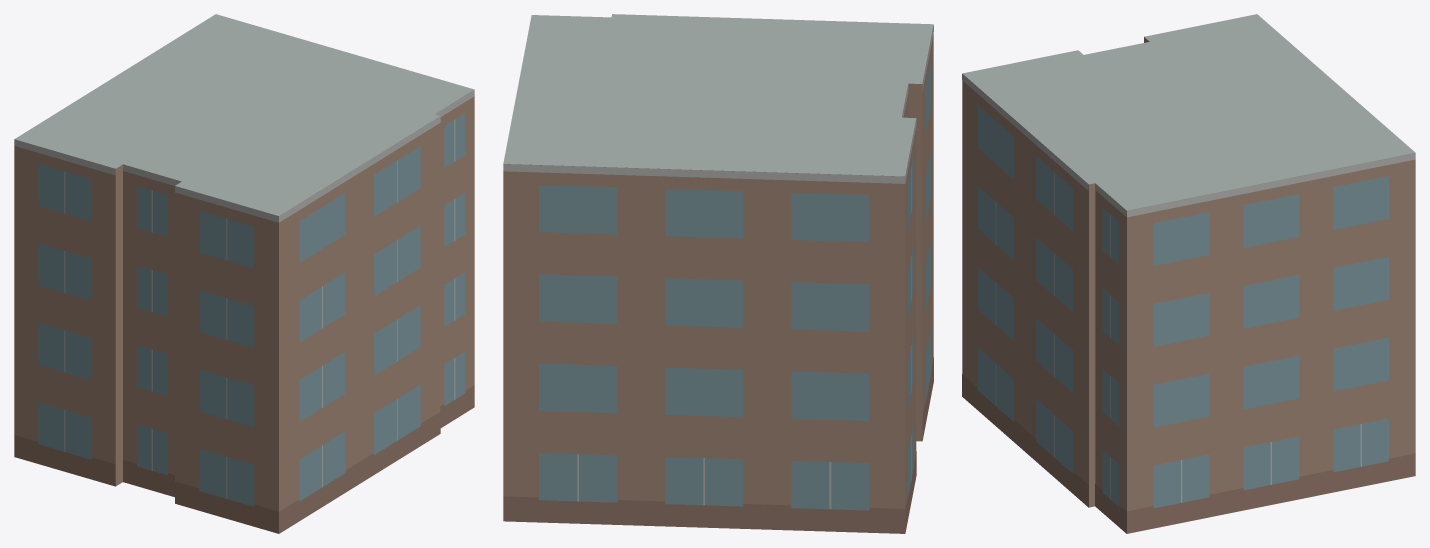
File: survey-upis-32621509.glb
3 renders of one model, left to right at view 1: azimuth 30°, elevation 25°; view 2: azimuth 150°, elevation 25°; view 3: azimuth 270°, elevation 25°, orthographic. The views are drawn at different scales.
Visible parts, largest first — view 1: survey-upis-32621509.tmp; view 2: survey-upis-32621509.tmp; view 3: survey-upis-32621509.tmp.
Boxes of the visible parts, left/top/right/bottom form: survey-upis-32621509.tmp: left=14, top=14, right=474, bottom=533; survey-upis-32621509.tmp: left=503, top=14, right=933, bottom=533; survey-upis-32621509.tmp: left=962, top=14, right=1415, bottom=533.
Bounding box in the file's own units: 15.28 × 11.7 × 14.89.
